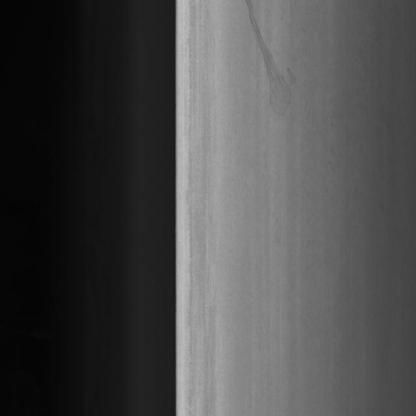water_spot: (242, 1, 314, 138)
